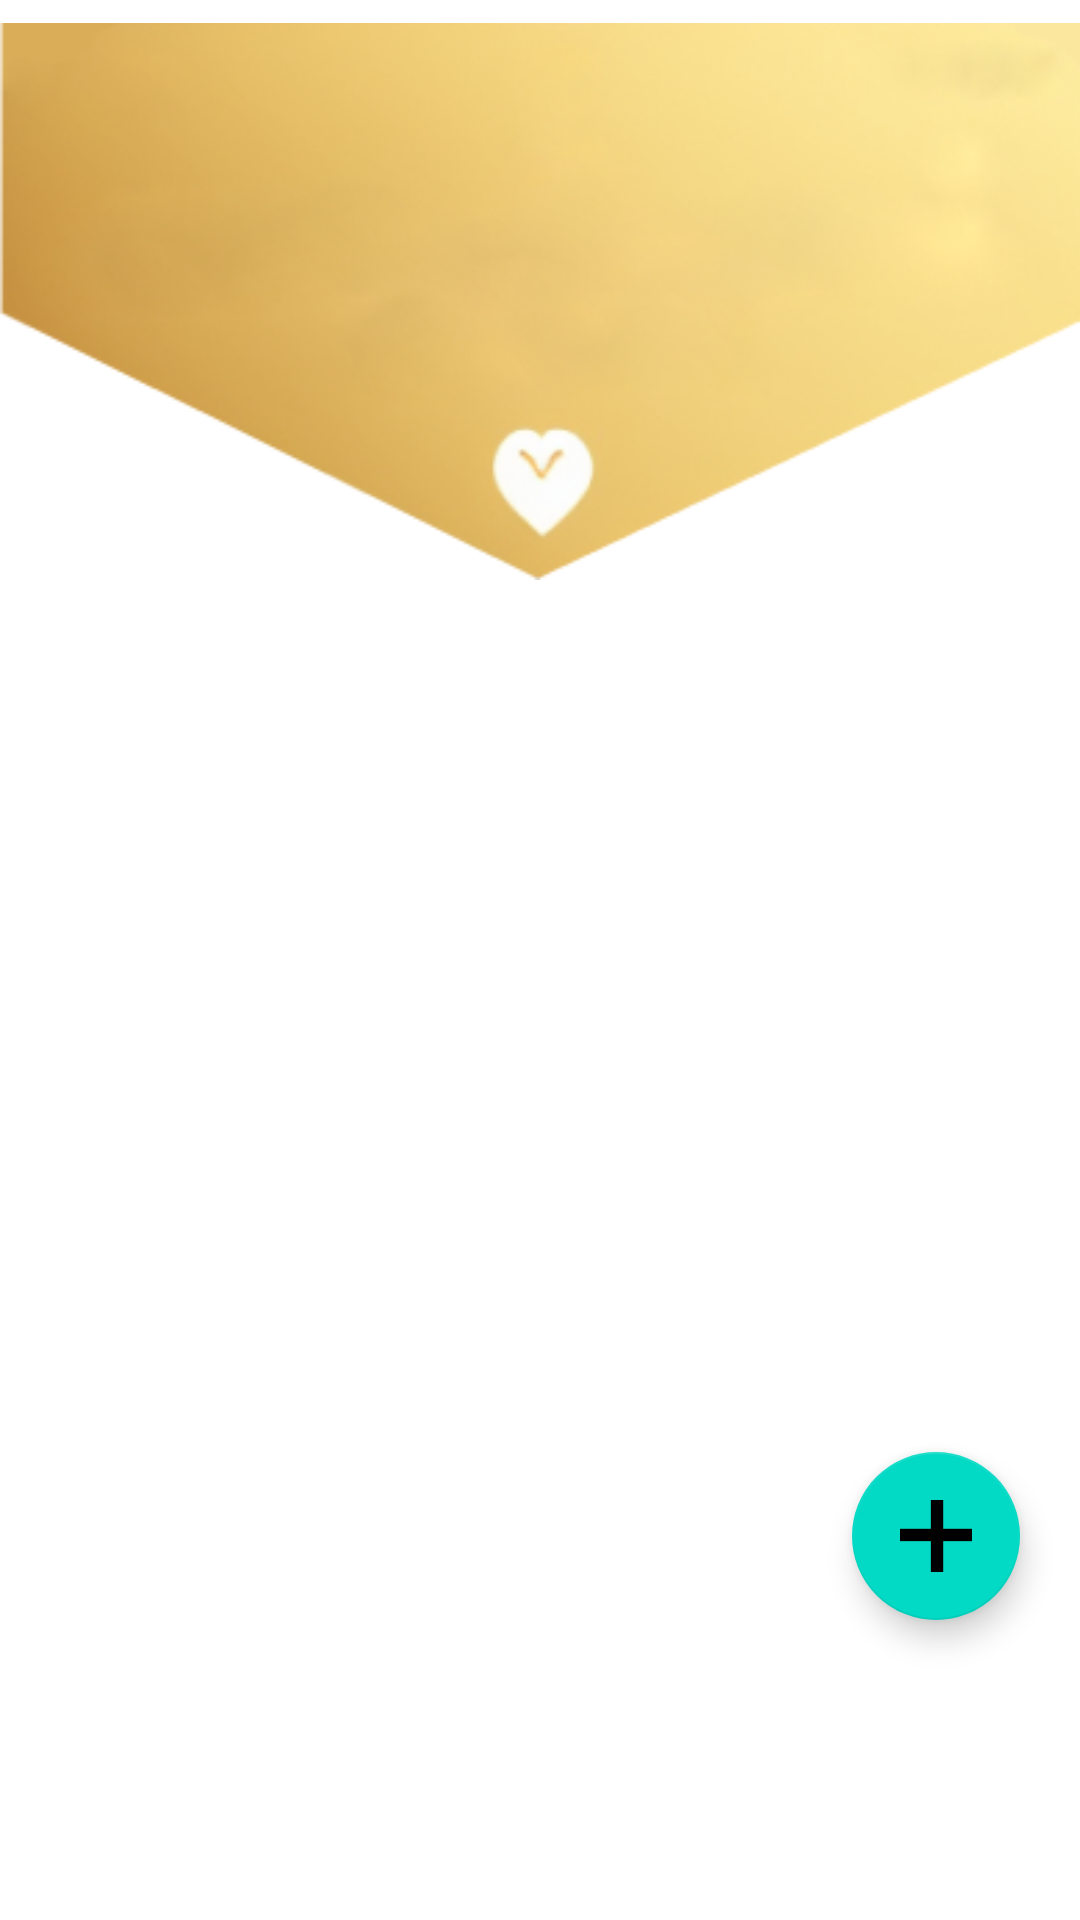

Where to tap for icons on this 1080x1920 app screen, as [x,y]:
plus: [936,1536]
